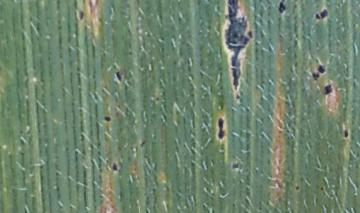tarspot: (219, 1, 253, 103), (216, 116, 226, 141), (313, 8, 330, 22), (321, 83, 334, 97), (76, 8, 86, 23), (113, 70, 124, 83), (109, 160, 120, 173), (341, 127, 351, 140), (277, 1, 287, 14), (316, 63, 326, 75), (310, 71, 320, 82), (230, 161, 241, 171), (102, 113, 112, 124), (153, 95, 162, 104), (138, 139, 146, 148), (317, 185, 326, 192), (293, 184, 300, 191), (144, 206, 151, 213), (210, 208, 217, 213)
